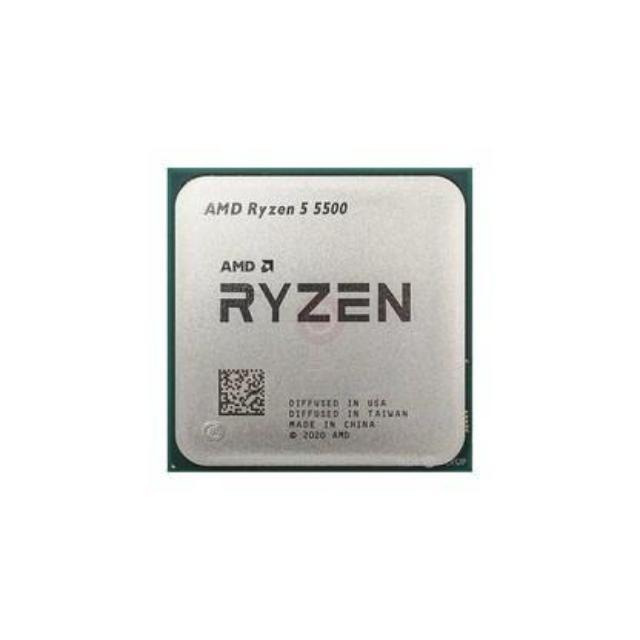CPU: (172, 174, 470, 466)
